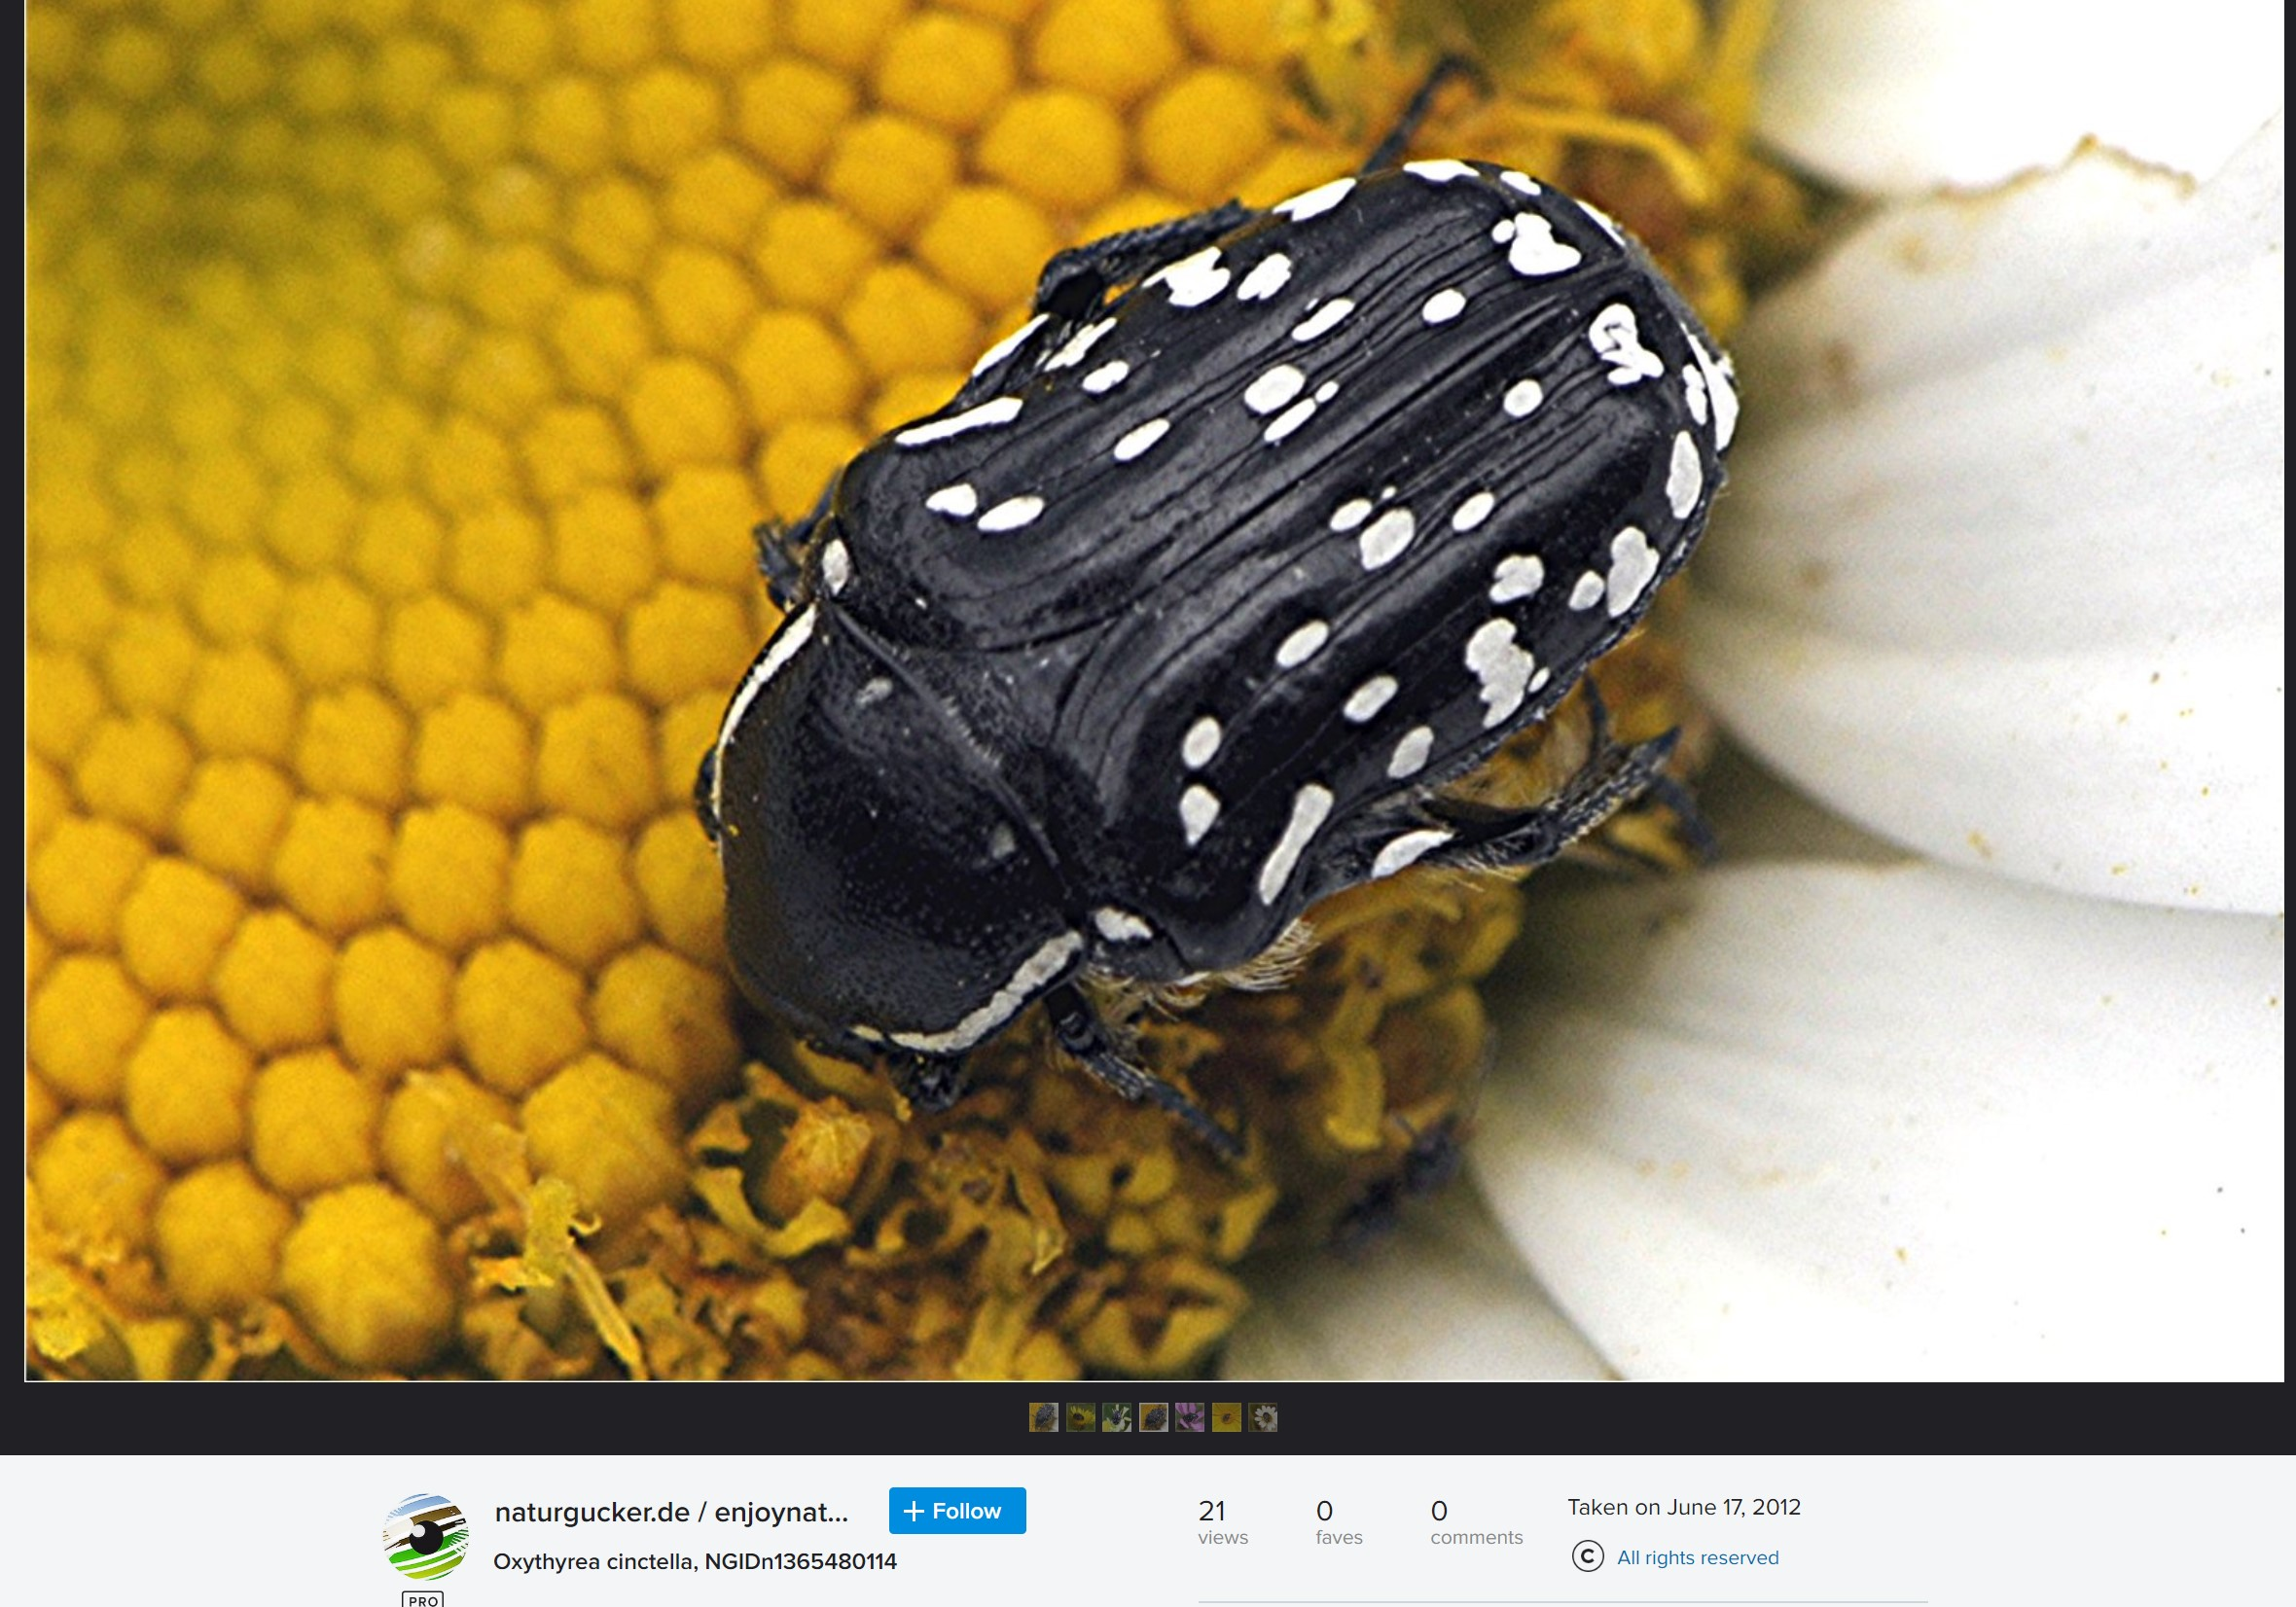Oxythyrea_cinctella: (661, 52, 1788, 1188)
